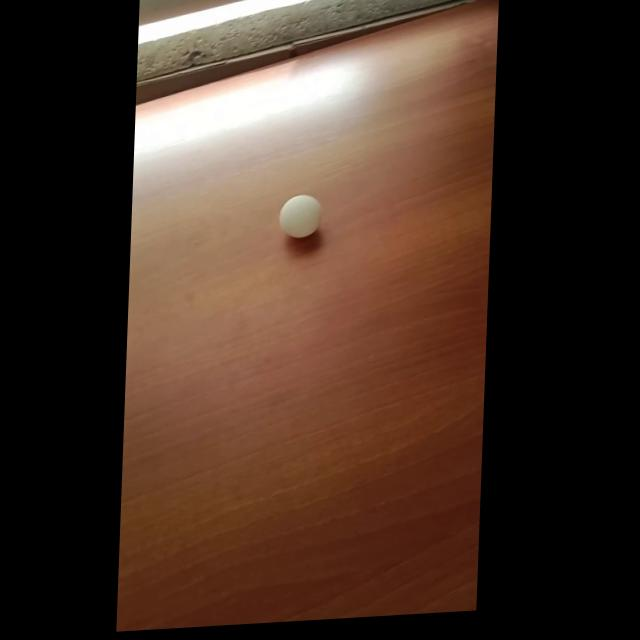white ball: (279, 192, 322, 239)
